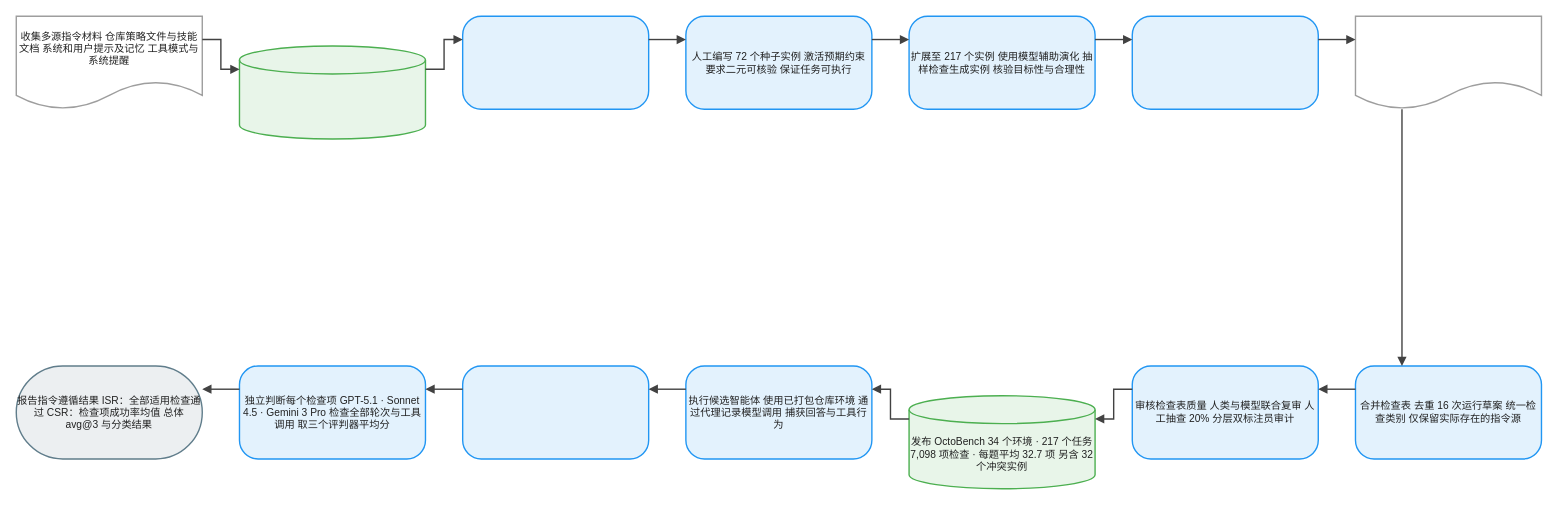
This 1559x506 diagram has some shape labels left out. Here are the shapes that lost their labels. From the top down, the centre of each, then its label:
point 555,62: 实例化三种脚手架 Claude Code Kilo Droid
point 1225,62: 运行固定参考智能体 使用 GPT-5.1 每题独立运行 16 次 记录规范化轨迹
point 1448,62: 提议原子检查项 覆盖每个有证据的指令源 结果仅为成功或失败 纳入已触发的隐藏约束
point 332,92: 打包可执行环境 规范化约束承载材料 加入仓库与持久状态 构建独立 Docker 镜像
point 555,412: 规范化完整轨迹 统一消息与工具格式 去重重复材料 在保留证据下截断长输出
